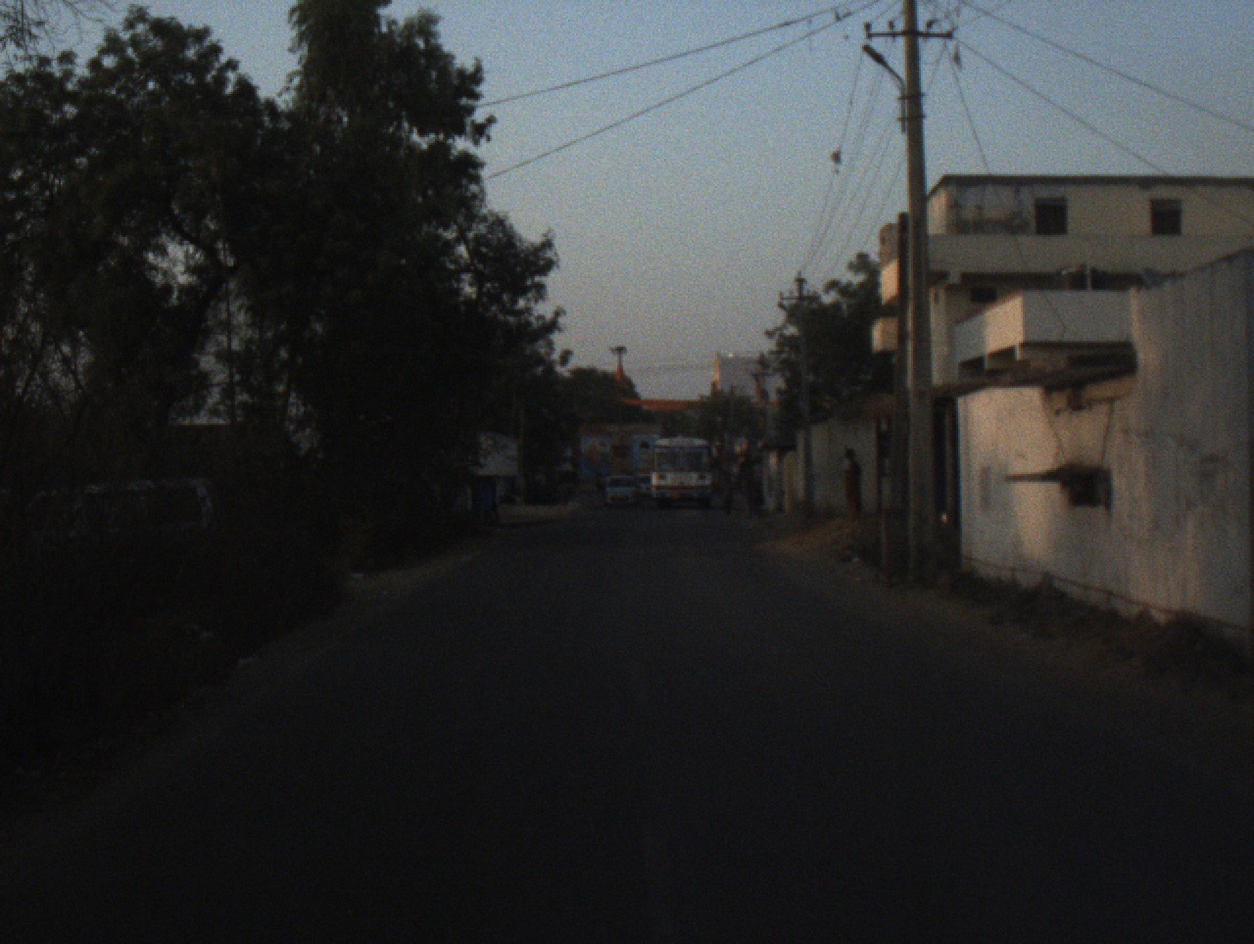bus: (650, 430, 713, 506)
car: (48, 477, 223, 535), (604, 470, 633, 509), (637, 468, 650, 496)
person: (839, 442, 866, 517)
